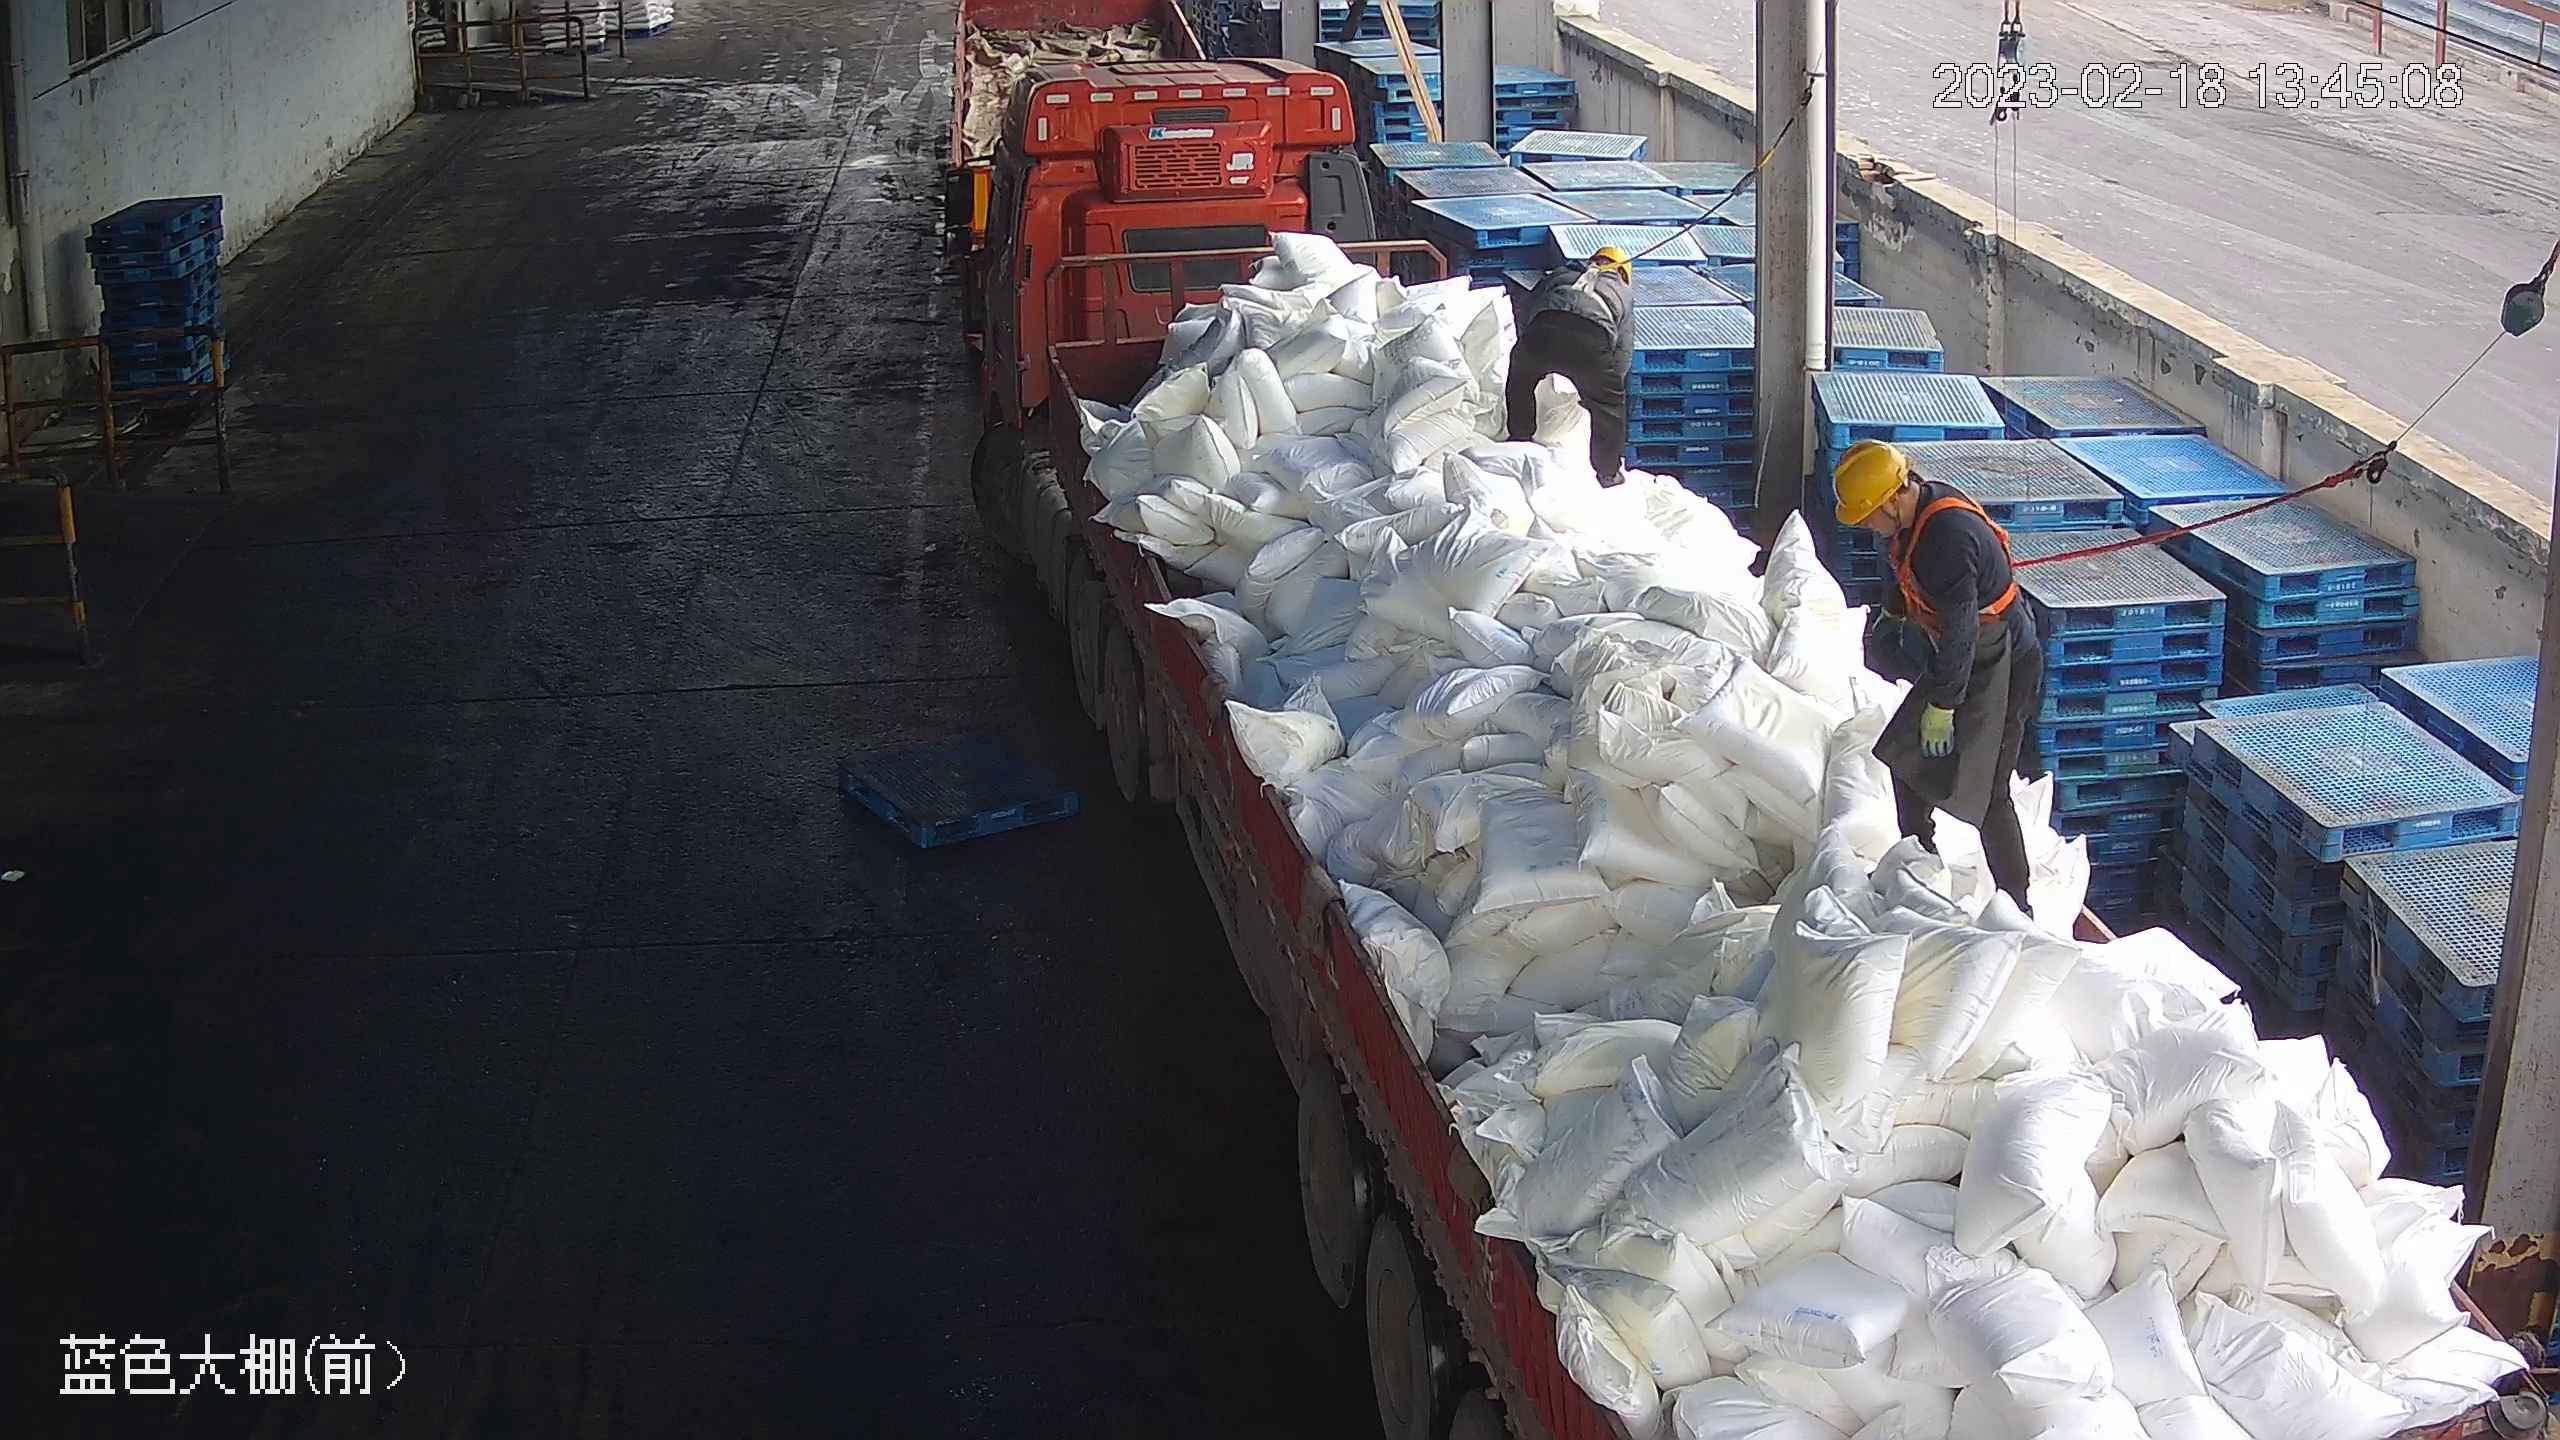belt: (1883, 489, 2028, 625)
head: (1826, 438, 2002, 581), (1530, 244, 1641, 305)
helmet: (1826, 437, 1913, 526), (1584, 243, 1637, 286)
people: (1825, 437, 2051, 923), (1501, 242, 1645, 491)
truck: (948, 53, 2555, 1436)
